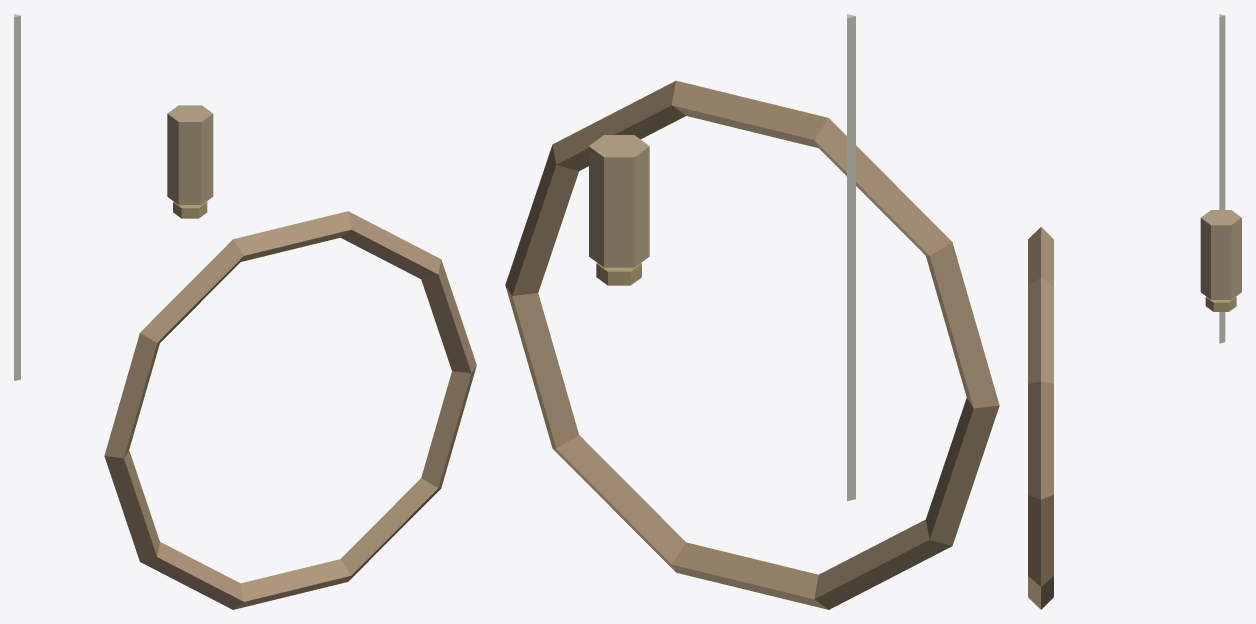
File: bentbow.glb
3 views of the same model, side by side, from view 1: azimuth 30°, elevation 25°; view 2: azimuth 150°, elevation 25°; view 3: azimuth 270°, elevation 25° (orthographic). The views are drawn at different scales.
Parts seen in each view (by area): view 1: bentbow; view 2: bentbow; view 3: bentbow.
Part boxes in pixels (x1,y1,x2,y2): bentbow: (14, 14, 476, 609); bentbow: (505, 14, 999, 609); bentbow: (1028, 14, 1241, 609).
Size of the model in its own units: 0.75 by 1.06 by 0.415.
